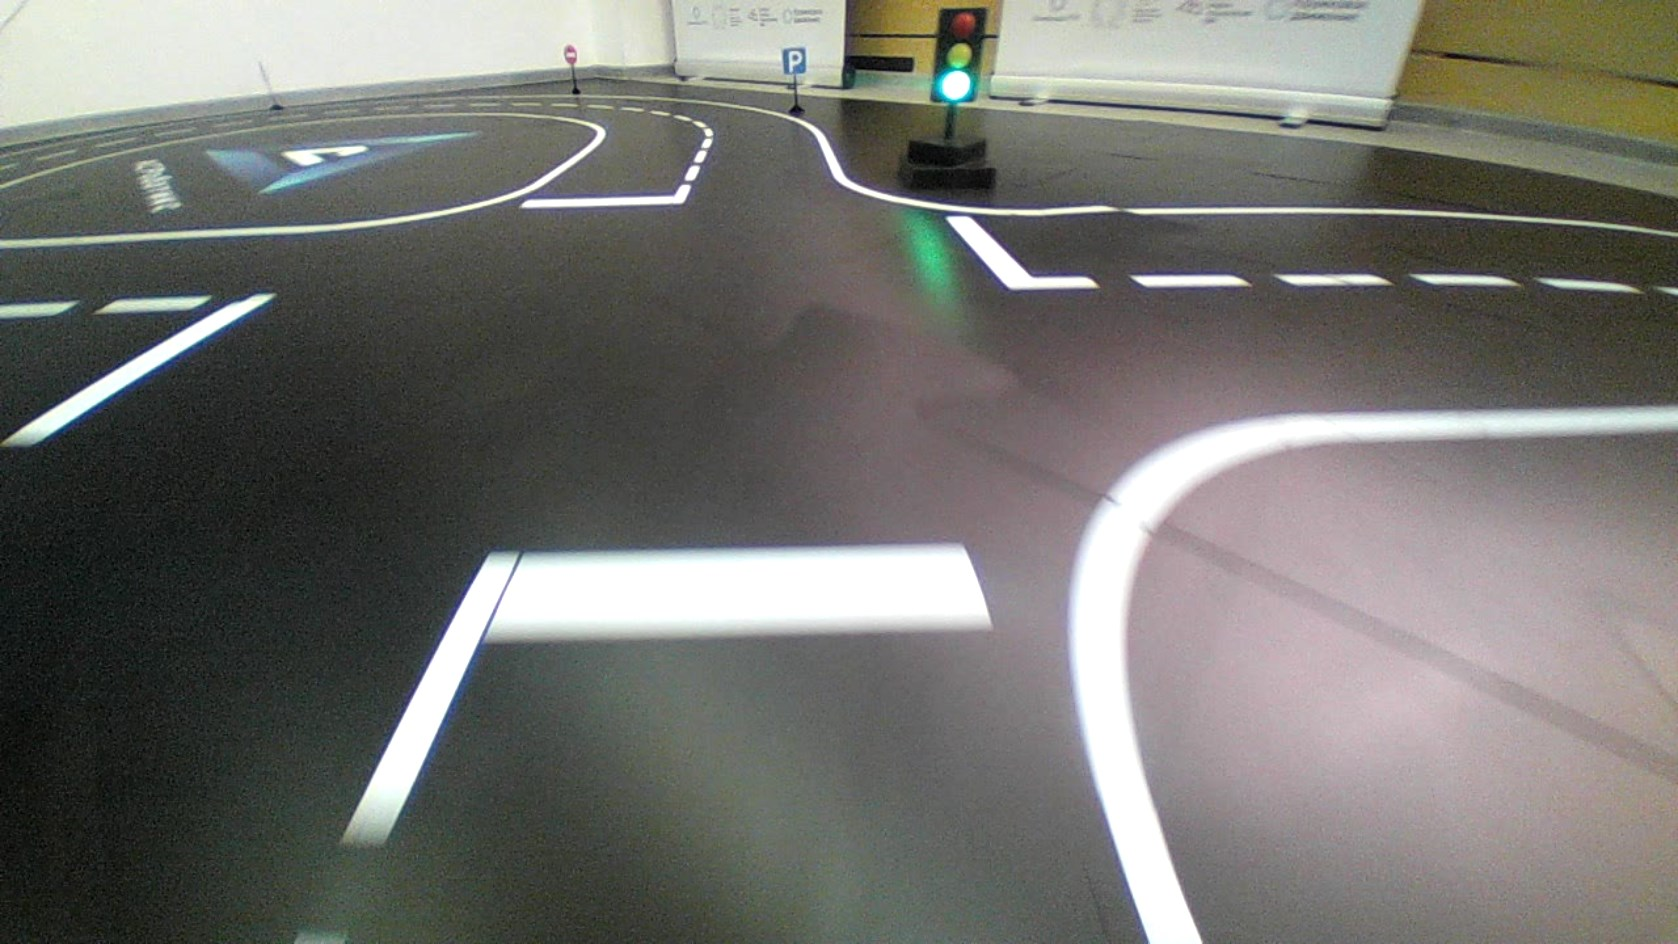trafficlight: (929, 6, 988, 104)
